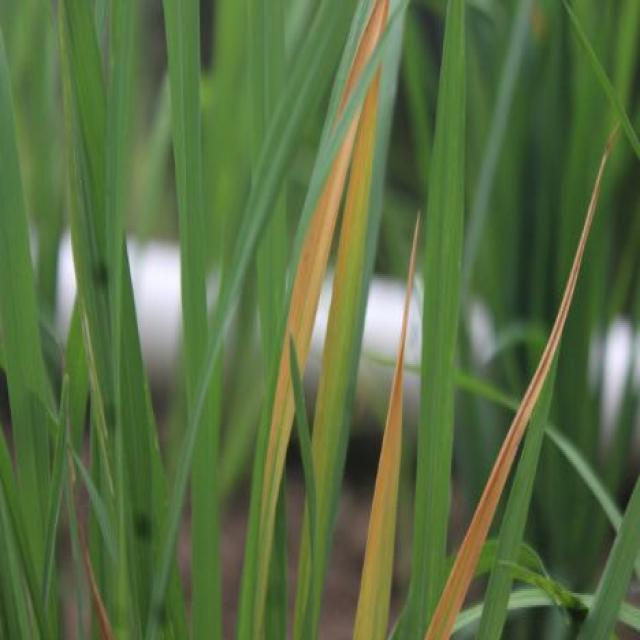Tungro: (274, 0, 436, 640), (446, 117, 613, 640)
